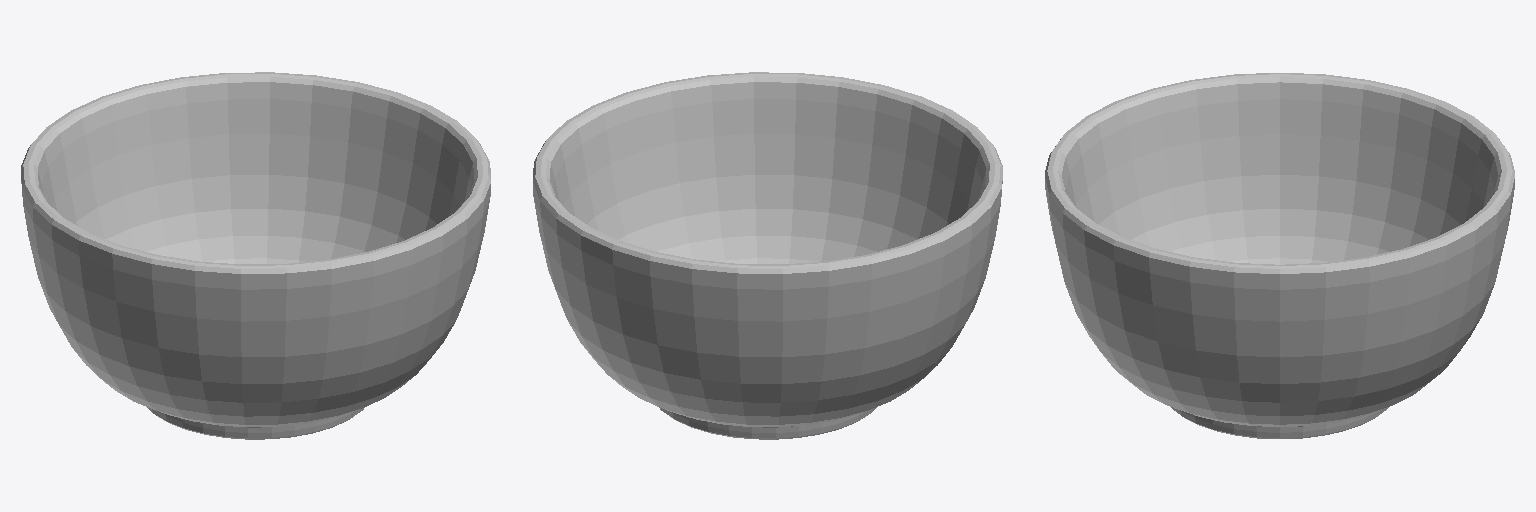
robot.urdf — plate:
<robot name="plate">
    <link name="link_object">
        <collision>
            <origin rpy="0 0 0" xyz="0.00000 0.00000 0.00000" />
            <geometry>
                <mesh filename="mesh/plate/plate.obj" />
            </geometry>
        </collision>
        <visual>
            <origin rpy="0 0 0" xyz="0.00000 0.00000 0.00000" />
            <geometry>
                <mesh filename="mesh/plate/plate.obj" />
            </geometry>
            <material name='grey'/>
        </visual>
        <inertial>
            <origin rpy="0 0 0" xyz="0 0 0" />
            <mass value="0.293" />
            <inertia ixx="0" ixy="0" ixz="0" iyy="0" iyz="0" izz="0" />
        </inertial>
    </link>
    <material name='grey'>
        <color rgba="0.8 0.8 0.8 1.0"/>
    </material>
</robot>

--- Facts derived from the render (not from the file) ---
The picture shows the robot from 3 angles, left to right: view 1: azimuth 30°, elevation 25°; view 2: azimuth 150°, elevation 25°; view 3: azimuth 270°, elevation 25°; orthographic projection.
Robot: plate — 1 links, 0 joints (none); root link link_object; default pose: every joint at zero.
Links seen in each view (by area): view 1: link_object; view 2: link_object; view 3: link_object.
Boxes of the visible links, box(x1,y1,x2,y2) form: link_object: box(21, 72, 490, 439); link_object: box(533, 72, 1002, 439); link_object: box(1045, 73, 1514, 438).
Bounding box of the posed robot: 0.0916 × 0.0916 × 0.0474 m (x, y, z).
1 mesh visuals loaded from 1 distinct referenced files (1 OBJ).